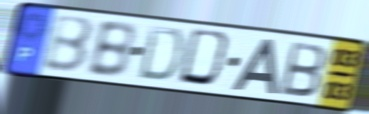A: (230, 37, 280, 95)
B: (41, 15, 96, 76), (84, 20, 137, 80), (278, 40, 329, 99)
D: (175, 26, 236, 91), (135, 24, 186, 84)
